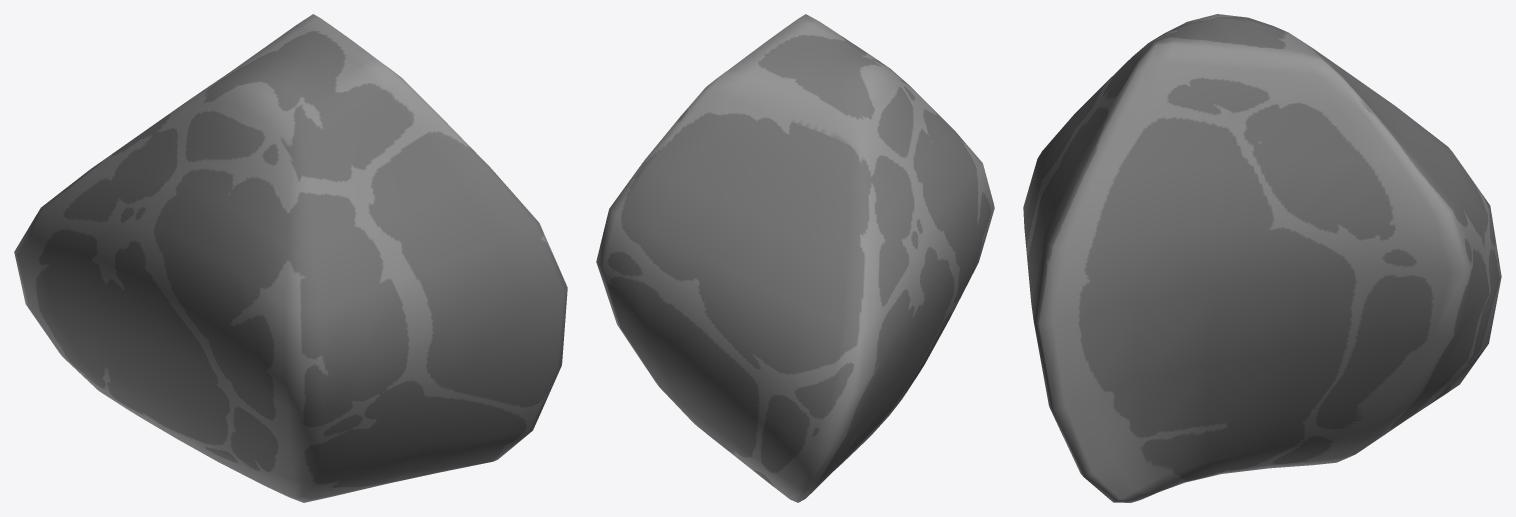
The model's file is CTS_E_PalmRockB.fbx.
The picture shows the model from 3 angles, left to right: view 1: azimuth 30°, elevation 25°; view 2: azimuth 150°, elevation 25°; view 3: azimuth 270°, elevation 25°; orthographic projection. The views are drawn at different scales.
Parts seen in each view (by area): view 1: CTS_E_PalmRockB; view 2: CTS_E_PalmRockB; view 3: CTS_E_PalmRockB.
Part boxes in pixels (box(x1,y1,x2,y2)): CTS_E_PalmRockB: box(14, 14, 567, 502); CTS_E_PalmRockB: box(596, 14, 994, 502); CTS_E_PalmRockB: box(1023, 14, 1501, 502).
Size of the model in its own units: 498 by 579 by 592.
